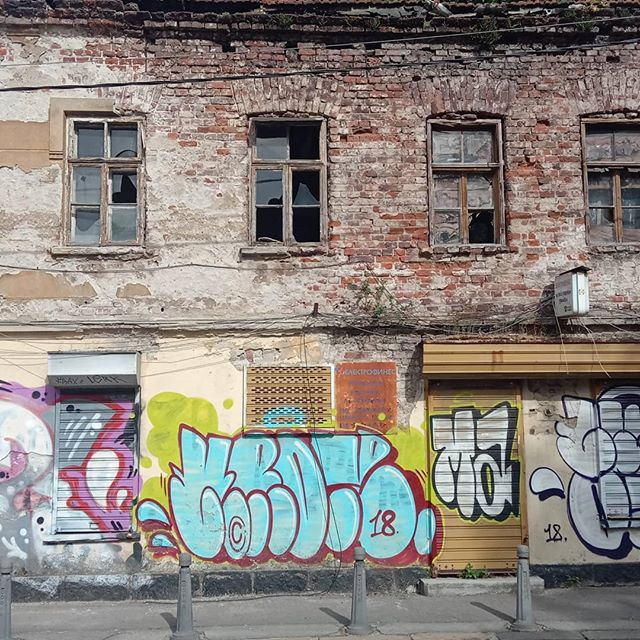building: (1, 1, 640, 630)
graffiti: (149, 418, 433, 564), (430, 372, 640, 565), (1, 405, 159, 554)
window: (39, 103, 172, 254), (233, 110, 340, 257), (425, 113, 520, 252), (569, 114, 640, 251)
